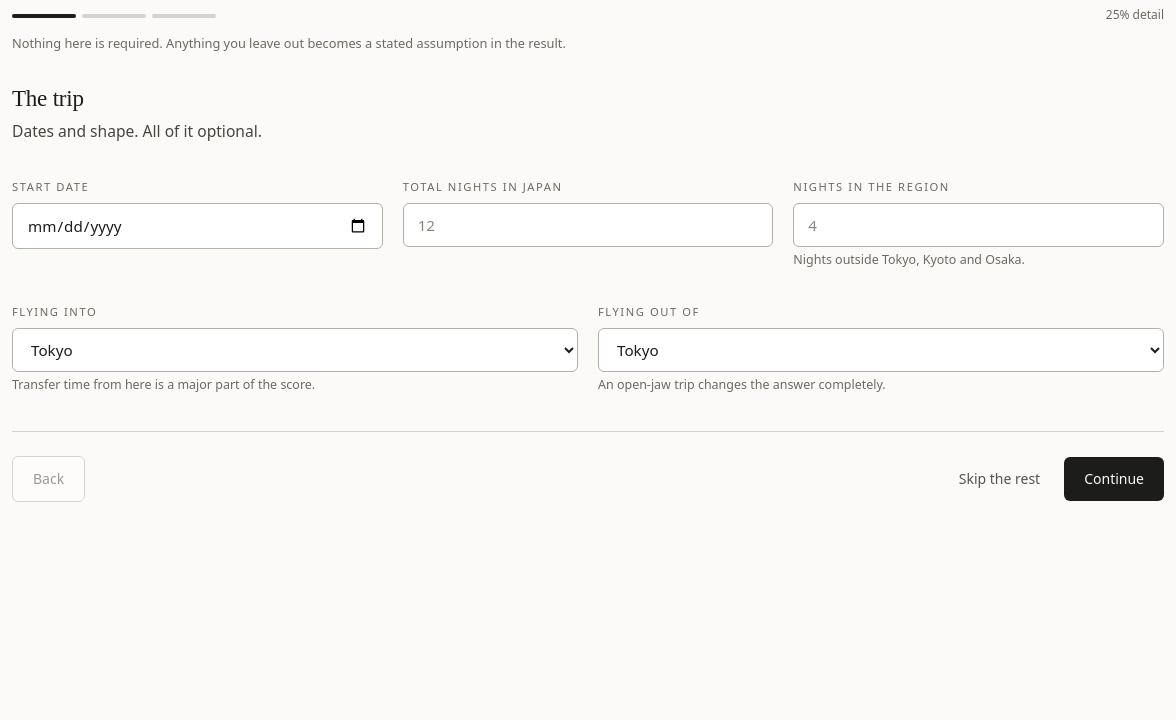
Test: WhereNextForm › explains when the analysis service cannot be reached at all
Click the button "Skip the rest".
click(999, 479)  # box [947,461,1052,497]
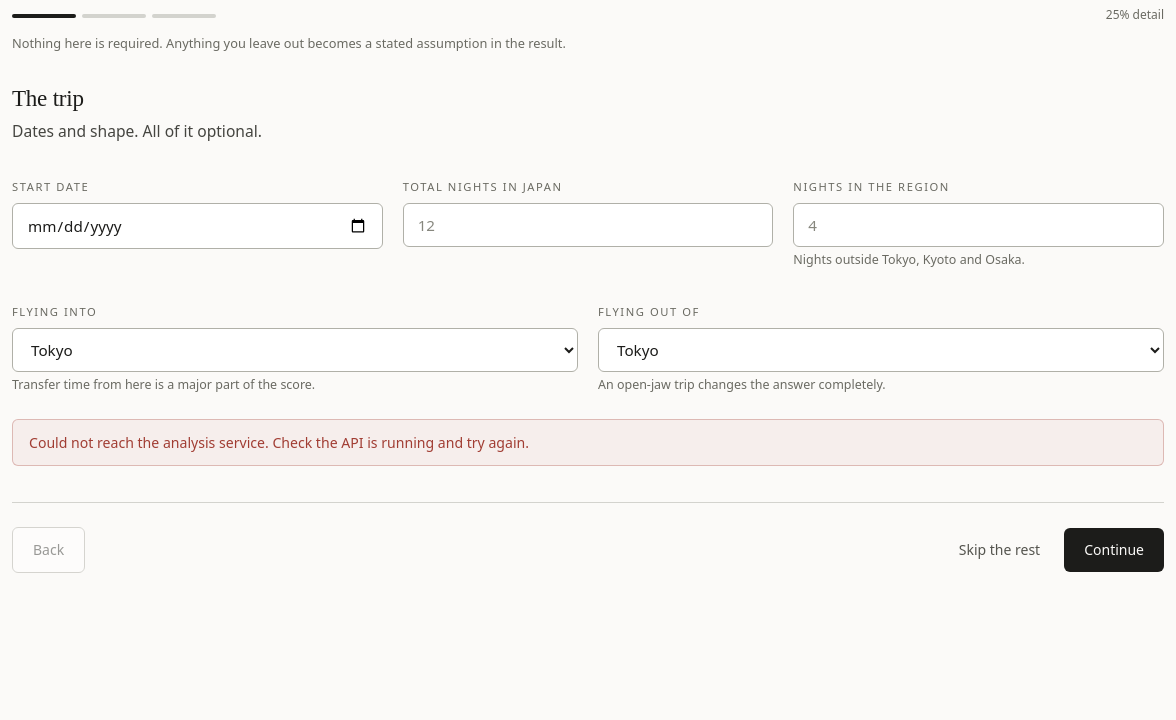
Now the message shows "Could not reach the analysis service", box [29,433,529,452]
